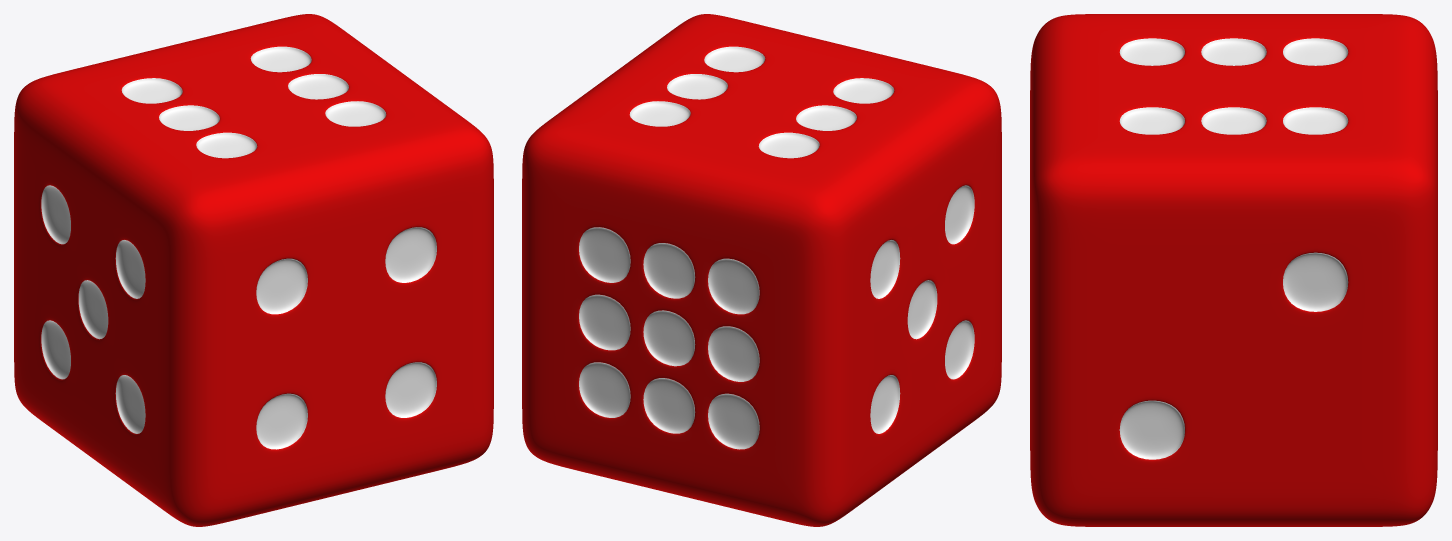
The model's file is Dice3DWith9.glb.
The picture shows the model from 3 angles, left to right: view 1: azimuth 30°, elevation 25°; view 2: azimuth 150°, elevation 25°; view 3: azimuth 270°, elevation 25°; orthographic projection. The views are drawn at different scales.
Visible parts, largest first — view 1: Cube; view 2: Cube; view 3: Cube.
Boxes of the visible parts, x1,y1,x2,y2 form: Cube: (14, 14, 493, 526); Cube: (522, 14, 1001, 526); Cube: (1030, 14, 1437, 526).
Bounding box in the file's own units: 2 × 2 × 2.
